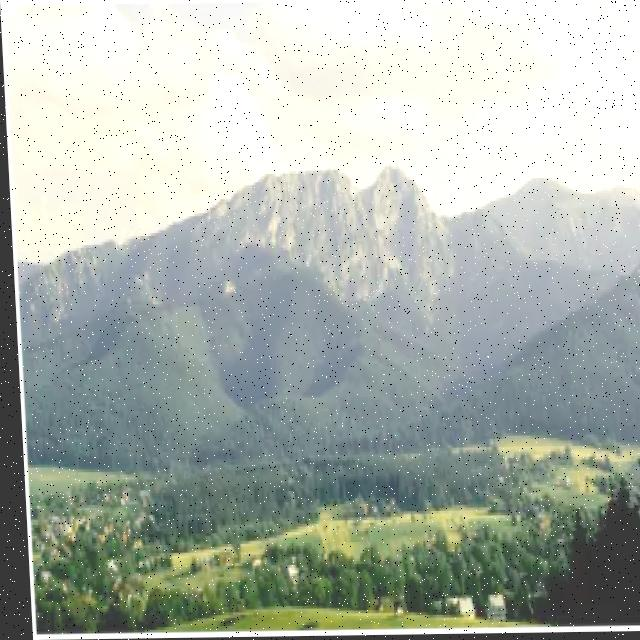Giewont: (342, 105, 445, 232)
Malolaczniak: (485, 122, 593, 238)
Maly giewont: (445, 168, 519, 256)
